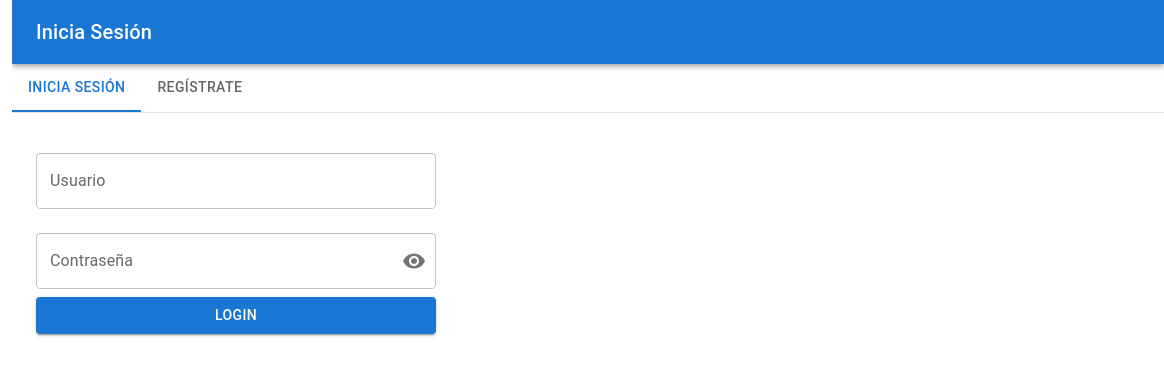
Test: Login component › shows error on login failure
Type "fail@email.com" into the field labelled "Usuario" at (236, 181), box [36,153,436,209]
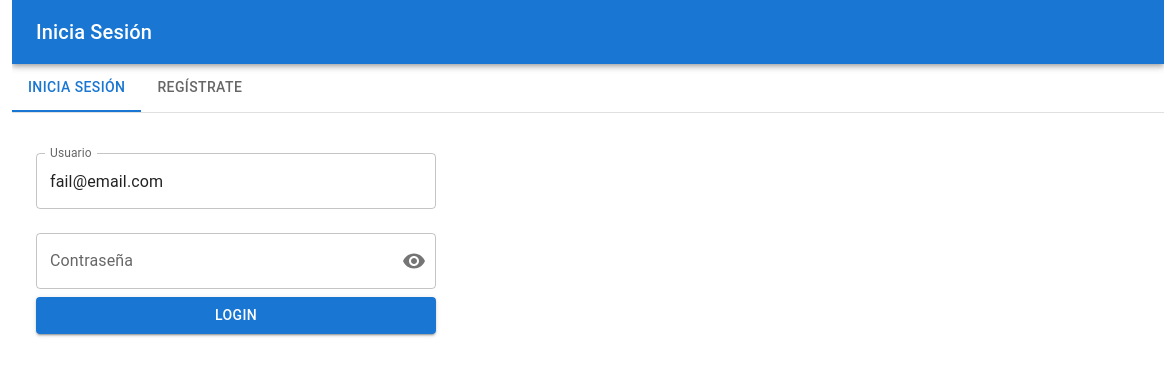
Type "wrongpass" into the password field labelled "Contraseña" at (211, 261), box [36,233,386,289]
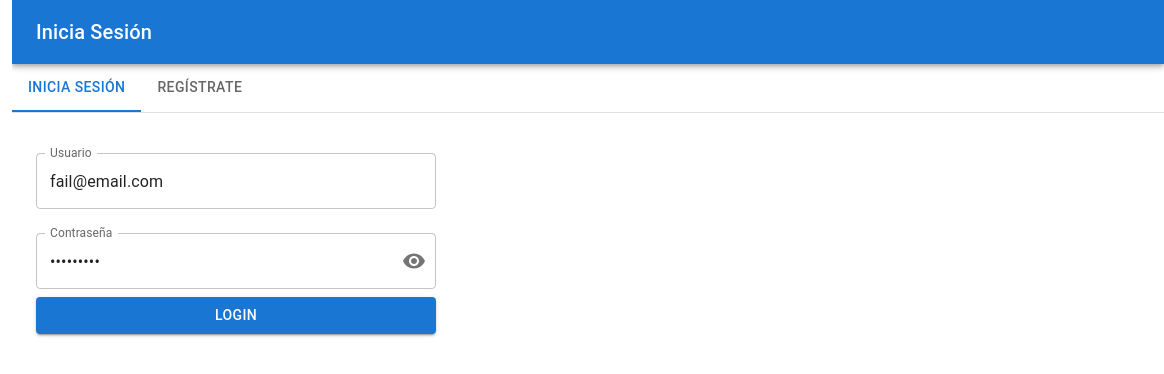
Click the button "Login" at (236, 315), box [36,297,436,334]
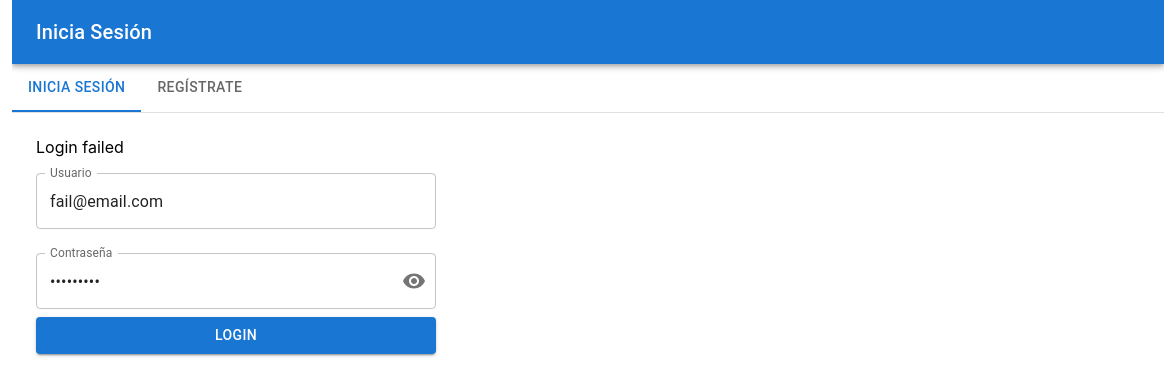
Expected: the text "Login failed" is shown, [36,137,124,157]
